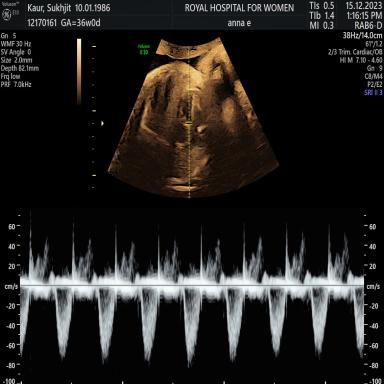Ultrasound-Waves: (25, 210, 364, 384)
